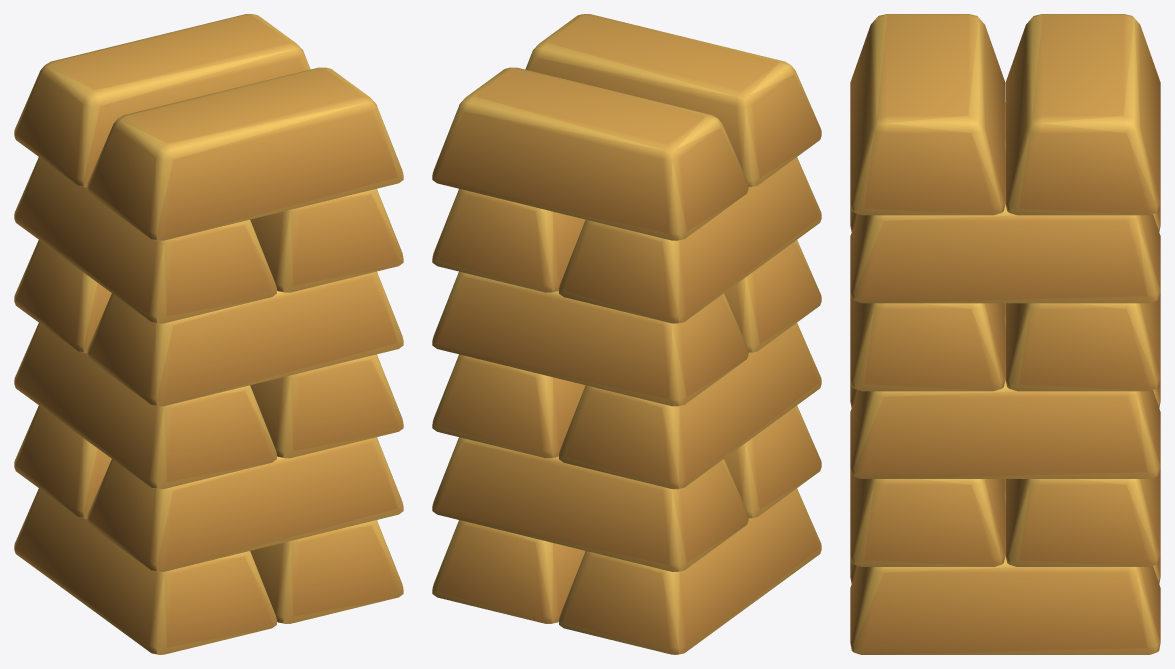
The model's file is Gold_Bars_Stack_Medium.glb.
3 views of the same model, side by side, from view 1: azimuth 30°, elevation 25°; view 2: azimuth 150°, elevation 25°; view 3: azimuth 270°, elevation 25° (orthographic). The views are drawn at different scales.
Parts seen in each view (by area): view 1: Gold_Bars_Stack_Medium; view 2: Gold_Bars_Stack_Medium; view 3: Gold_Bars_Stack_Medium.
Boxes of the visible parts, x1,y1,x2,y2 form: Gold_Bars_Stack_Medium: [14, 14, 403, 654]; Gold_Bars_Stack_Medium: [432, 14, 821, 654]; Gold_Bars_Stack_Medium: [850, 14, 1160, 654].
Size of the model in its own units: 0.8 by 1.5 by 0.8.
Materials: 1 (1 with a texture image).
